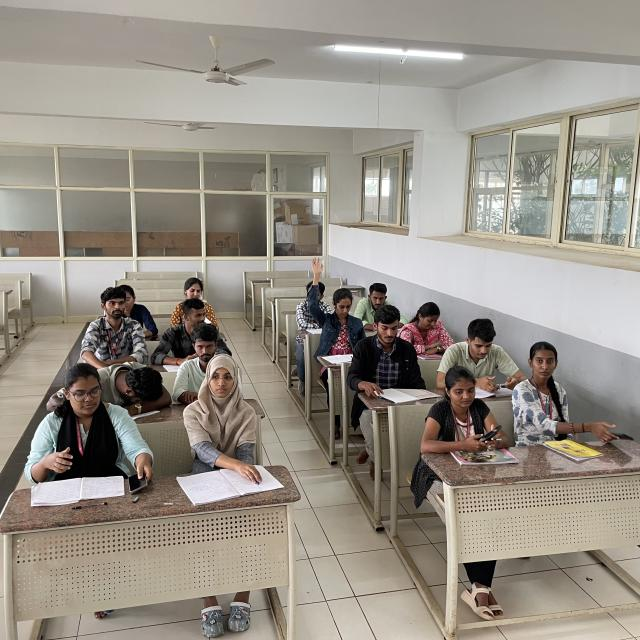Hand Rising: (306, 254, 363, 351)
Reading: (351, 308, 425, 398)
Sleeping: (103, 356, 171, 412)
Using Phone: (22, 360, 159, 494), (423, 364, 505, 452), (445, 314, 528, 393)
Writing: (356, 283, 399, 336)
